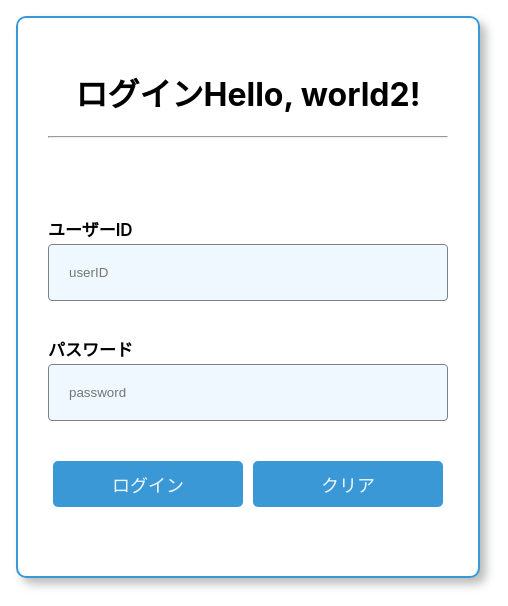
Test case: Signin test › 不正なID/パス
Type "watanabe" into the field labelled "ユーザーID". click: (248, 272)
box: left=48, top=244, right=448, bottom=301
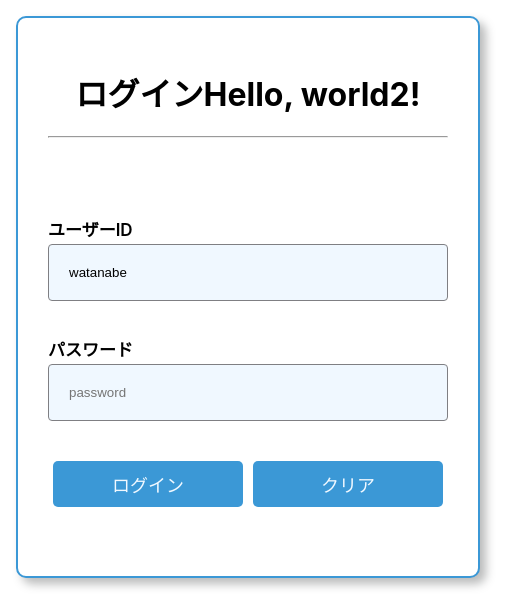
Type "aaaa" into the password field labelled "パスワード". click: (248, 392)
box: left=48, top=364, right=448, bottom=421
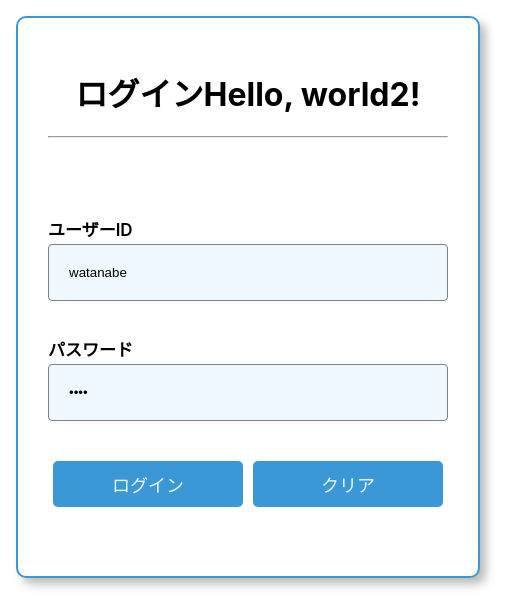
Click the button "ログイン". click: (148, 484)
box: left=53, top=461, right=243, bottom=507
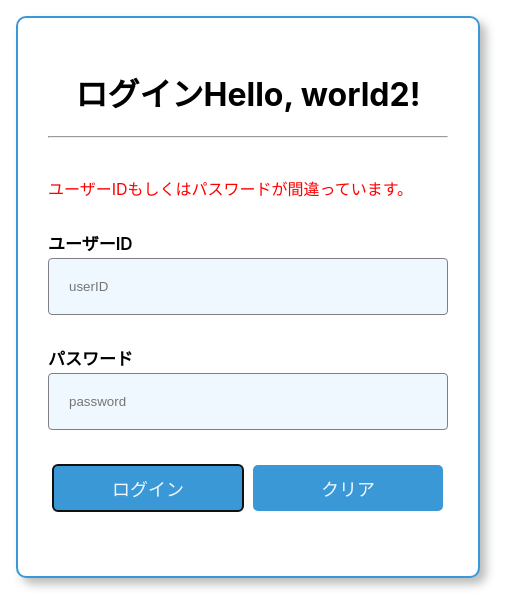
Expected: the text "ユーザーIDもしくはパスワードが間違っています。" is shown, left=48, top=176, right=413, bottom=200
